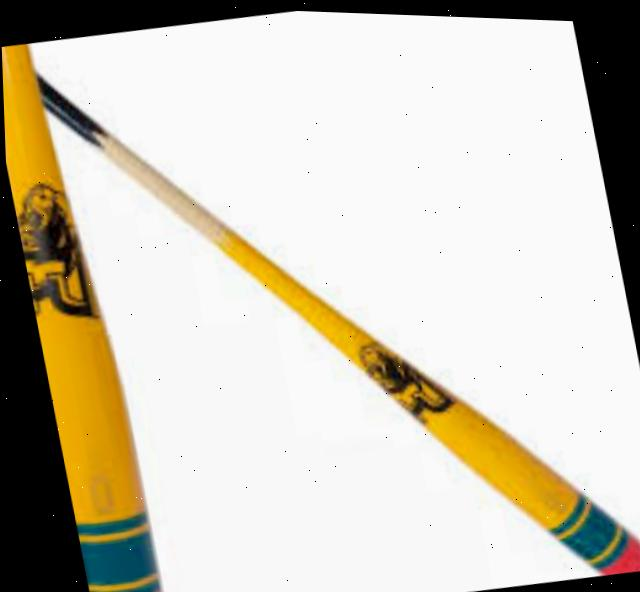baseball bat: (1, 46, 640, 571), (1, 43, 159, 592)
